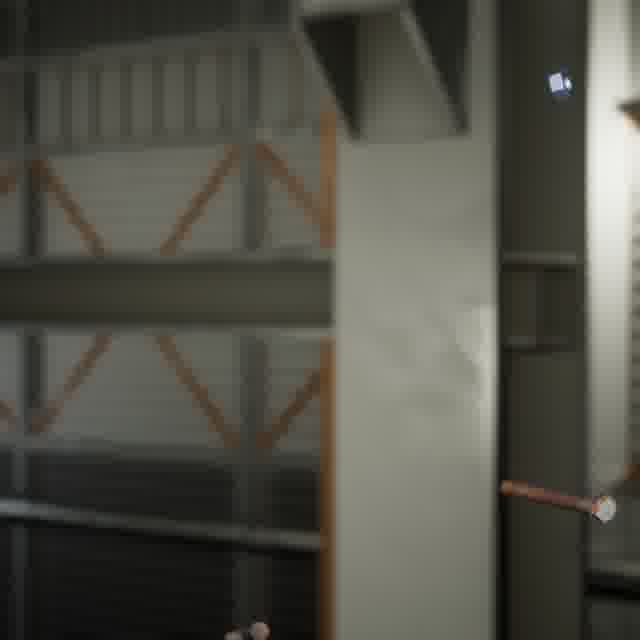bolt: (496, 475, 620, 527), (219, 616, 274, 640)
nut: (544, 63, 578, 106)
